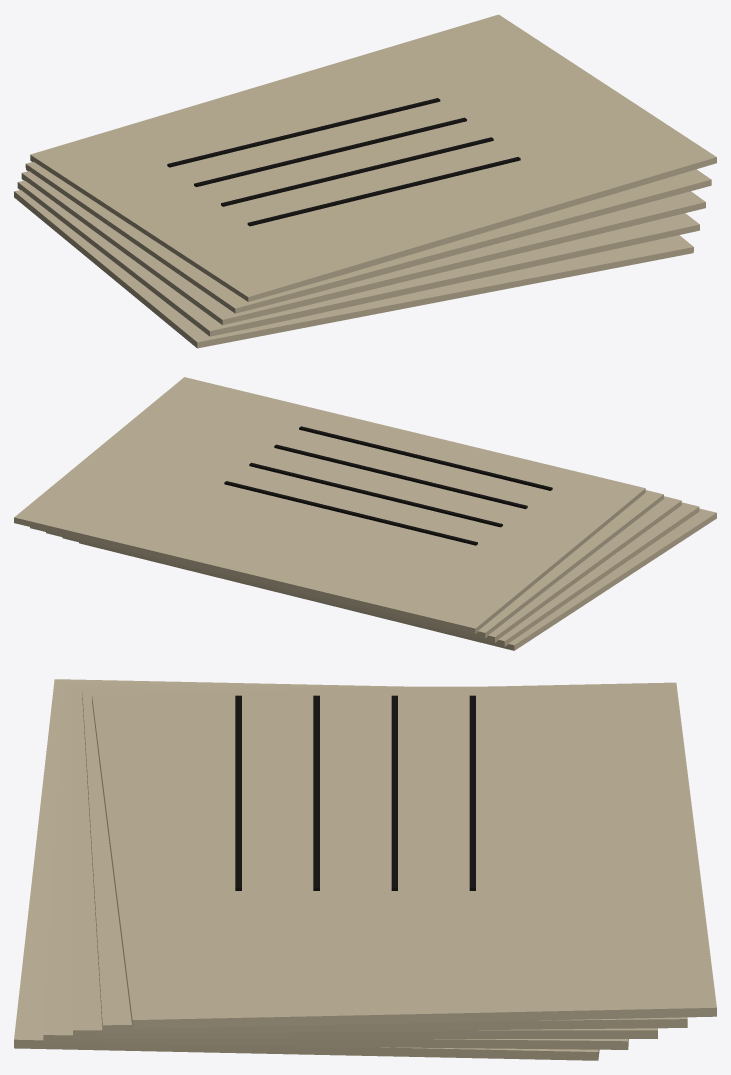
File: paper_stack.glb
The picture shows the model from 3 angles, top to bottom: view 1: azimuth 30°, elevation 25°; view 2: azimuth 150°, elevation 25°; view 3: azimuth 270°, elevation 25°; orthographic projection. The views are drawn at different scales.
Visible parts, largest first — view 1: _MeshInstance3D_179, paper__loose_paper, _MeshInstance3D_176, _MeshInstance3D_177, _MeshInstance3D_178, dark__ink_line, _MeshInstance3D_182, _MeshInstance3D_180, _MeshInstance3D_181; view 2: _MeshInstance3D_179, _MeshInstance3D_178, _MeshInstance3D_177, paper__loose_paper, _MeshInstance3D_176, dark__ink_line, _MeshInstance3D_181, _MeshInstance3D_182, _MeshInstance3D_180; view 3: _MeshInstance3D_179, paper__loose_paper, _MeshInstance3D_176, _MeshInstance3D_178, _MeshInstance3D_177, _MeshInstance3D_181, _MeshInstance3D_182, dark__ink_line, _MeshInstance3D_180.
Boxes of the visible parts, left/top/right/bottom form: _MeshInstance3D_179: left=30, top=14, right=716, bottom=301; paper__loose_paper: left=14, top=190, right=693, bottom=348; _MeshInstance3D_176: left=17, top=180, right=699, bottom=336; _MeshInstance3D_177: left=21, top=171, right=705, bottom=325; _MeshInstance3D_178: left=25, top=161, right=711, bottom=313; dark__ink_line: left=167, top=98, right=440, bottom=167; _MeshInstance3D_182: left=247, top=157, right=520, bottom=226; _MeshInstance3D_180: left=194, top=117, right=466, bottom=186; _MeshInstance3D_181: left=221, top=137, right=493, bottom=206; _MeshInstance3D_179: left=14, top=377, right=645, bottom=634; _MeshInstance3D_178: left=30, top=490, right=663, bottom=638; _MeshInstance3D_177: left=46, top=496, right=681, bottom=642; paper__loose_paper: left=79, top=508, right=716, bottom=650; _MeshInstance3D_176: left=62, top=502, right=699, bottom=646; dark__ink_line: left=224, top=481, right=477, bottom=545; _MeshInstance3D_181: left=274, top=444, right=527, bottom=509; _MeshInstance3D_182: left=299, top=426, right=552, bottom=490; _MeshInstance3D_180: left=249, top=462, right=502, bottom=527; _MeshInstance3D_179: left=92, top=682, right=716, bottom=1028; paper__loose_paper: left=14, top=679, right=599, bottom=1060; _MeshInstance3D_176: left=43, top=683, right=628, bottom=1049; _MeshInstance3D_178: left=82, top=686, right=687, bottom=1033; _MeshInstance3D_177: left=73, top=686, right=657, bottom=1038; _MeshInstance3D_181: left=313, top=695, right=319, bottom=890; _MeshInstance3D_182: left=235, top=695, right=241, bottom=890; dark__ink_line: left=469, top=695, right=475, bottom=890; _MeshInstance3D_180: left=391, top=695, right=397, bottom=890.
Bounding box in the file's own units: 0.2827 × 0.031 × 0.2163.
